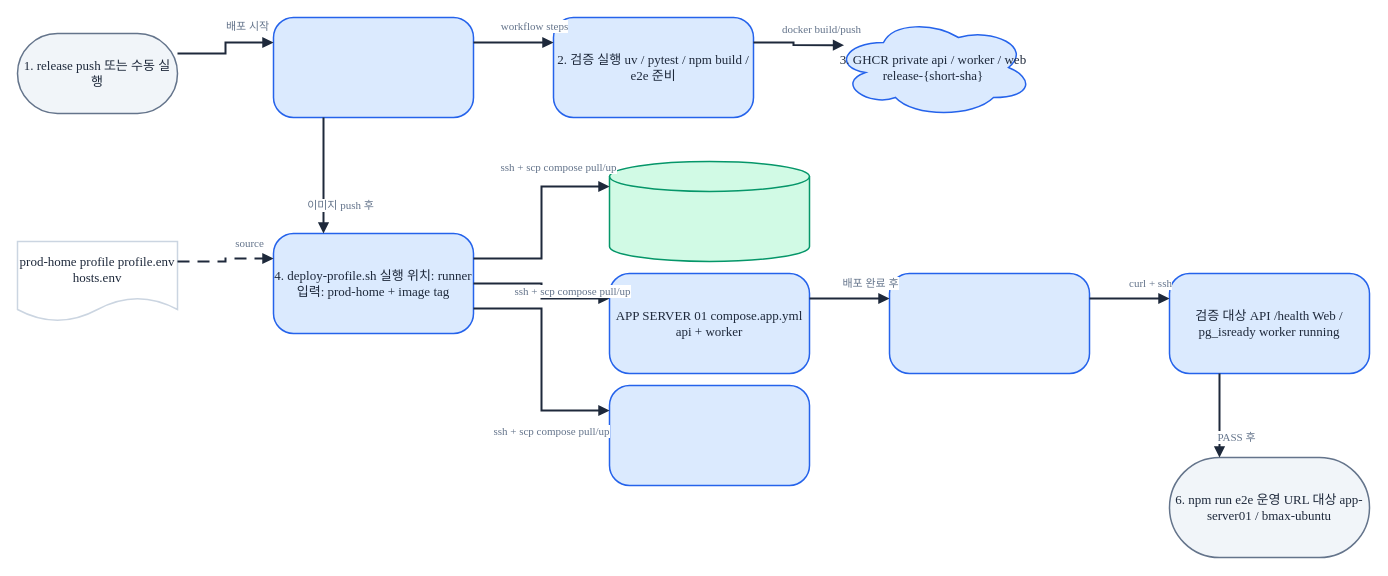
The diagram is 1388 pixels wide and 576 high, and some of its shapes have lost their labels. Here are the shapes that lost their labels. From the top down, the centre of each, then its label:
At (x=373, y=67): "Mac Mini M4 GitHub Actions runner .github/workflows/deploy.yml".
At (x=709, y=211): "Mac Mini M4 compose.infra.yml postgres".
At (x=989, y=323): "5. healthcheck-profile.sh 실행 위치: runner".
At (x=709, y=435): "bmax-ubuntu compose.web.yml web".
